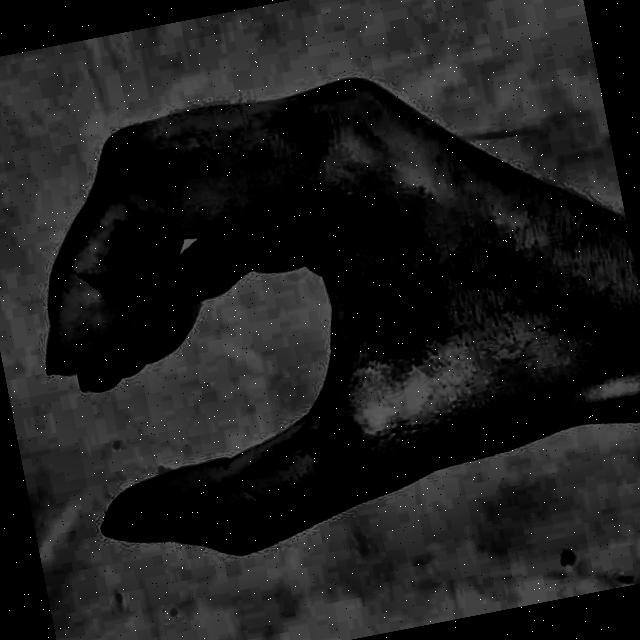Ka: (0, 0, 640, 621)
